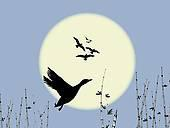bird: (40, 66, 93, 113), (72, 35, 85, 51), (74, 53, 95, 62), (85, 45, 101, 55)
